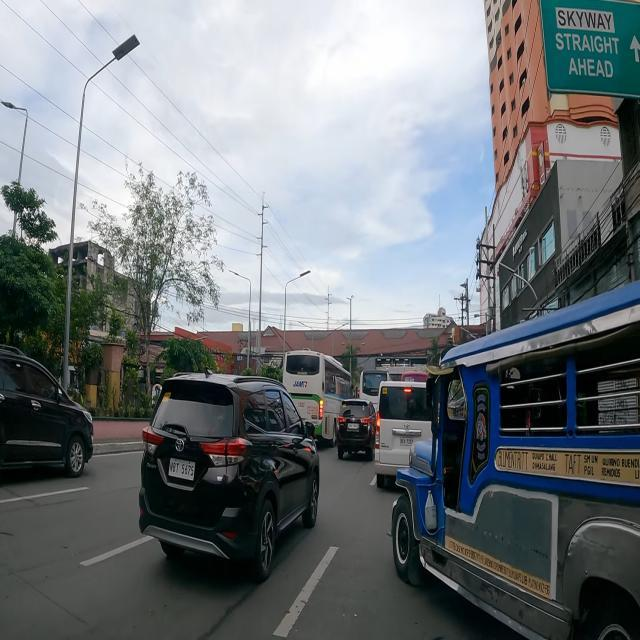bus: (282, 348, 353, 446), (359, 370, 393, 417)
car: (138, 372, 320, 582), (0, 341, 96, 488), (374, 381, 436, 491), (336, 399, 376, 461)
jeepney: (390, 276, 640, 640)
